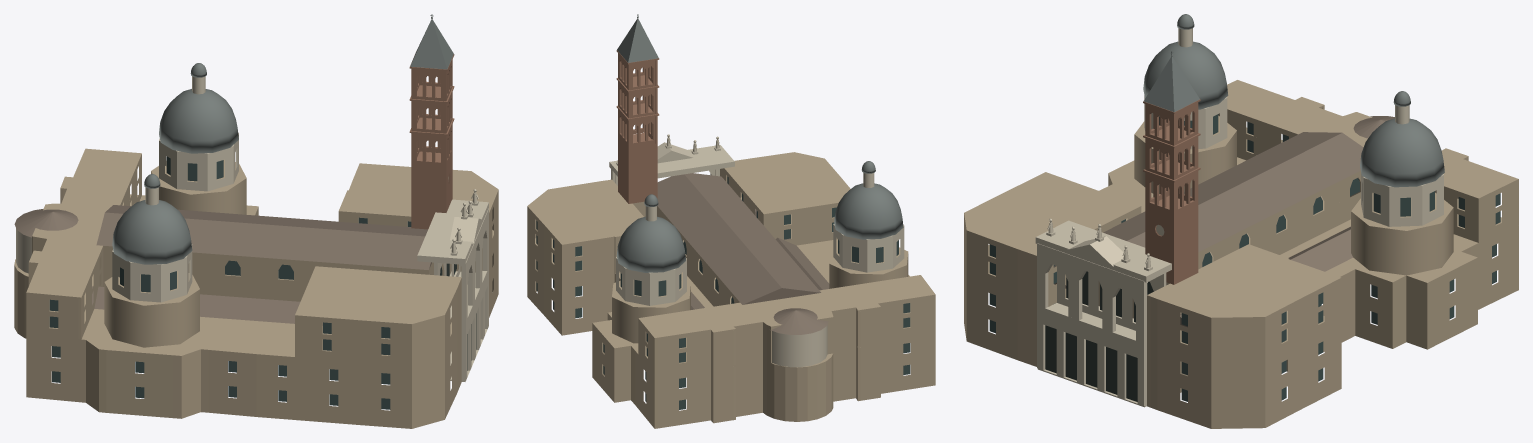
Rendered from santa-maria-maggiore-far.glb.
The picture shows the model from 3 angles, left to right: view 1: azimuth 30°, elevation 25°; view 2: azimuth 150°, elevation 25°; view 3: azimuth 270°, elevation 25°; orthographic projection. The views are drawn at different scales.
Visible parts, largest first — view 1: santa-maria-maggiore-0-masonry, santa-maria-maggiore-0-roof, santa-maria-maggiore-0-stone, santa-maria-maggiore-0-metal, santa-maria-maggiore-0-brick, santa-maria-maggiore-0-glass; view 2: santa-maria-maggiore-0-masonry, santa-maria-maggiore-0-roof, santa-maria-maggiore-0-stone, santa-maria-maggiore-0-metal, santa-maria-maggiore-0-brick, santa-maria-maggiore-0-glass; view 3: santa-maria-maggiore-0-masonry, santa-maria-maggiore-0-stone, santa-maria-maggiore-0-roof, santa-maria-maggiore-0-metal, santa-maria-maggiore-0-brick, santa-maria-maggiore-0-glass, santa-maria-maggiore-0-shadow.
Part boxes in pixels (x1,y1,x2,y2): santa-maria-maggiore-0-masonry: (14, 148, 498, 428); santa-maria-maggiore-0-roof: (14, 205, 431, 325); santa-maria-maggiore-0-stone: (16, 76, 488, 381); santa-maria-maggiore-0-metal: (112, 14, 453, 264); santa-maria-maggiore-0-brick: (409, 51, 454, 229); santa-maria-maggiore-0-glass: (49, 156, 411, 409); santa-maria-maggiore-0-masonry: (527, 152, 935, 428); santa-maria-maggiore-0-roof: (657, 173, 829, 334); santa-maria-maggiore-0-stone: (609, 134, 904, 367); santa-maria-maggiore-0-metal: (616, 14, 903, 272); santa-maria-maggiore-0-brick: (616, 50, 659, 203); santa-maria-maggiore-0-glass: (536, 176, 910, 409); santa-maria-maggiore-0-masonry: (964, 80, 1518, 428); santa-maria-maggiore-0-stone: (1035, 28, 1443, 407); santa-maria-maggiore-0-roof: (1053, 116, 1394, 327); santa-maria-maggiore-0-metal: (1143, 14, 1444, 187); santa-maria-maggiore-0-brick: (1143, 99, 1200, 284); santa-maria-maggiore-0-glass: (989, 114, 1500, 401); santa-maria-maggiore-0-shadow: (1045, 271, 1153, 401).
Size of the model in its own units: 115 by 75 by 113.
